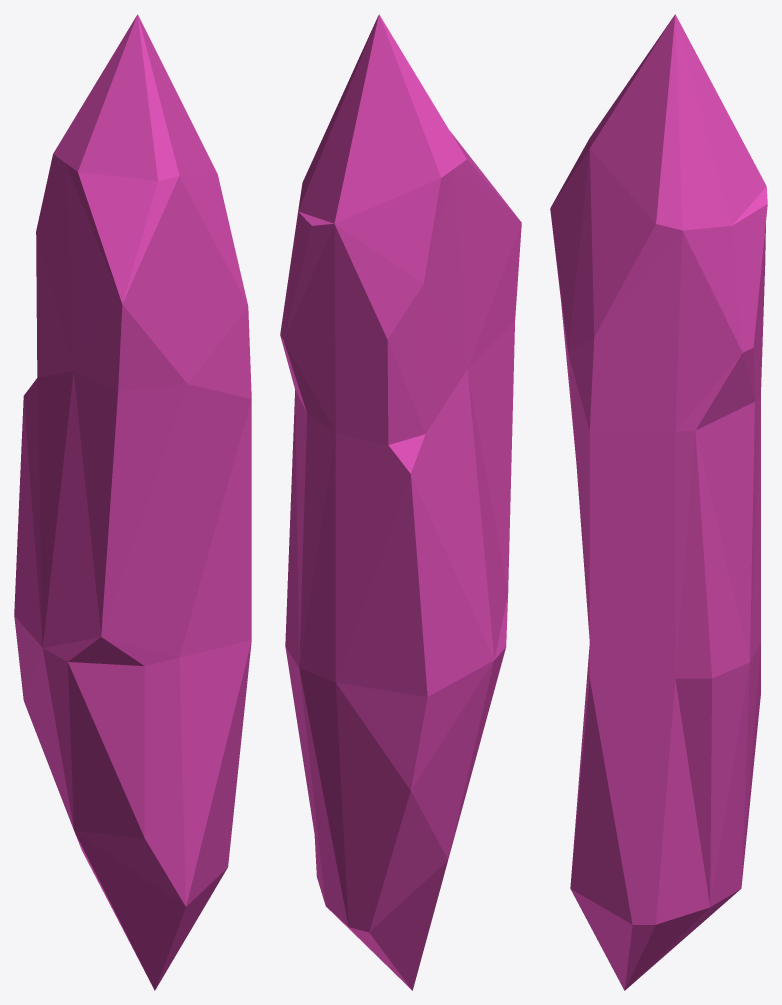
The model's file is SM_Crystal_C.fbx.
3 views of the same model, side by side, from view 1: azimuth 30°, elevation 25°; view 2: azimuth 150°, elevation 25°; view 3: azimuth 270°, elevation 25° (orthographic). The views are drawn at different scales.
Parts seen in each view (by area): view 1: SM_Crystal_C; view 2: SM_Crystal_C; view 3: SM_Crystal_C.
Boxes of the visible parts, x1,y1,x2,y2 form: SM_Crystal_C: (14, 14, 251, 990); SM_Crystal_C: (280, 14, 521, 990); SM_Crystal_C: (550, 14, 767, 990).
Size of the model in its own units: 16.93 by 88.31 by 17.76.
